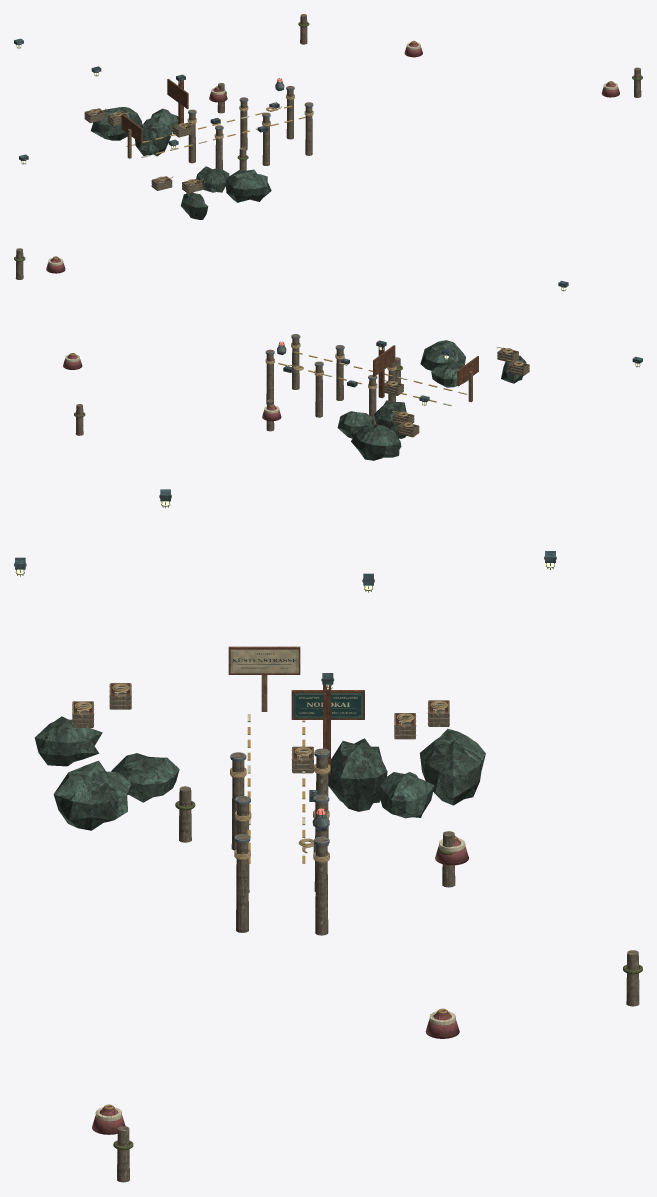
File: landfall.glb
3 views of the same model, one above another, from view 1: azimuth 30°, elevation 25°; view 2: azimuth 150°, elevation 25°; view 3: azimuth 270°, elevation 25° (orthographic). The views are drawn at different scales.
Visible parts, largest first — view 1: Bojen, Untiefen und Netzkisten, Rote Hafenmarke und Landgang; view 2: Bojen, Untiefen und Netzkisten, Rote Hafenmarke und Landgang; view 3: Bojen, Untiefen und Netzkisten, Rote Hafenmarke und Landgang.
Boxes of the visible parts, x1,y1,x2,y2 form: Bojen, Untiefen und Netzkisten: (84,40,619,219); Rote Hafenmarke und Landgang: (14,14,642,170); Bojen, Untiefen und Netzkisten: (46,256,529,460); Rote Hafenmarke und Landgang: (14,248,642,435); Bojen, Untiefen und Netzkisten: (35,683,485,1134); Rote Hafenmarke und Landgang: (14,489,642,1182).
Bounding box in the file's own units: 27.72 × 4.55 × 13.42.
18 materials, 12 textured.
